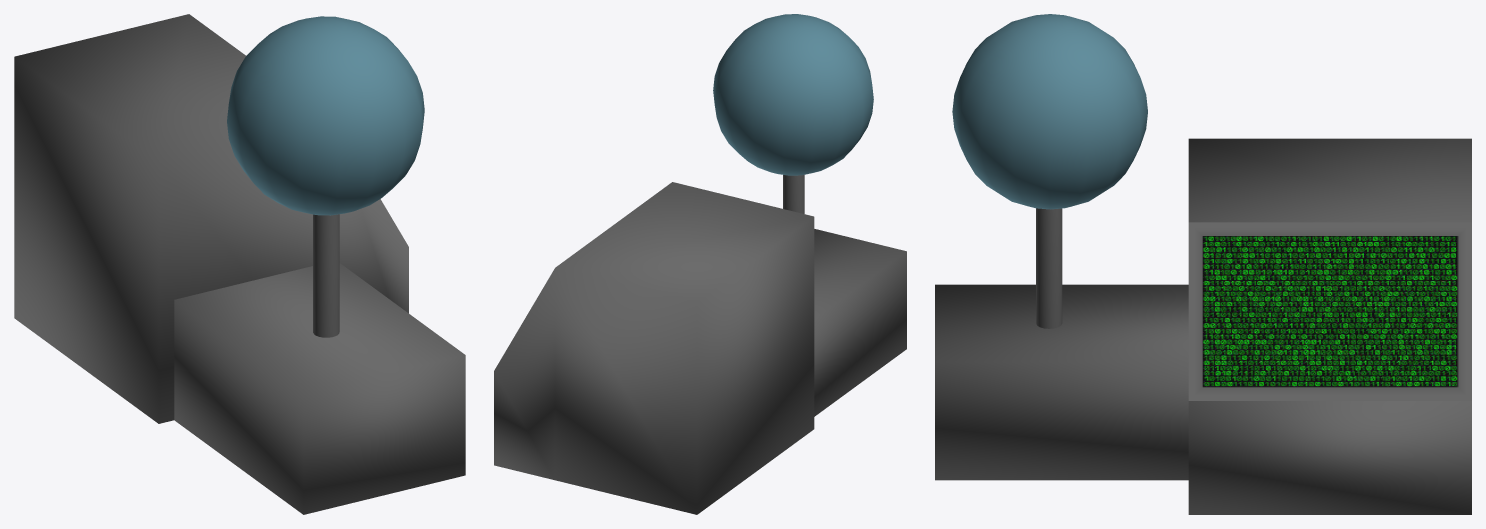
Rendered from workbench_alien.fbx.
3 views of the same model, side by side, from view 1: azimuth 30°, elevation 25°; view 2: azimuth 150°, elevation 25°; view 3: azimuth 270°, elevation 25° (orthographic). The views are drawn at different scales.
Parts seen in each view (by area): view 1: Cube.001, Sphere, Cylinder; view 2: Cube.001, Sphere, Cylinder; view 3: Cube.001, Cube.000, Sphere, Cylinder.
Part boxes in pixels (x1=…): Cube.001: x1=14, y1=14, x2=465, y2=514; Sphere: x1=227, y1=16, x2=424, y2=215; Cylinder: x1=313, y1=214, x2=339, y2=337; Cube.001: x1=494, y1=182, x2=906, y2=514; Sphere: x1=713, y1=14, x2=873, y2=175; Cylinder: x1=783, y1=175, x2=804, y2=213; Cube.001: x1=935, y1=138, x2=1471, y2=514; Cube.000: x1=1202, y1=236, x2=1458, y2=387; Sphere: x1=952, y1=14, x2=1147, y2=209; Cylinder: x1=1036, y1=208, x2=1062, y2=328.
Size of the model in its own units: 118 by 192 by 224.
